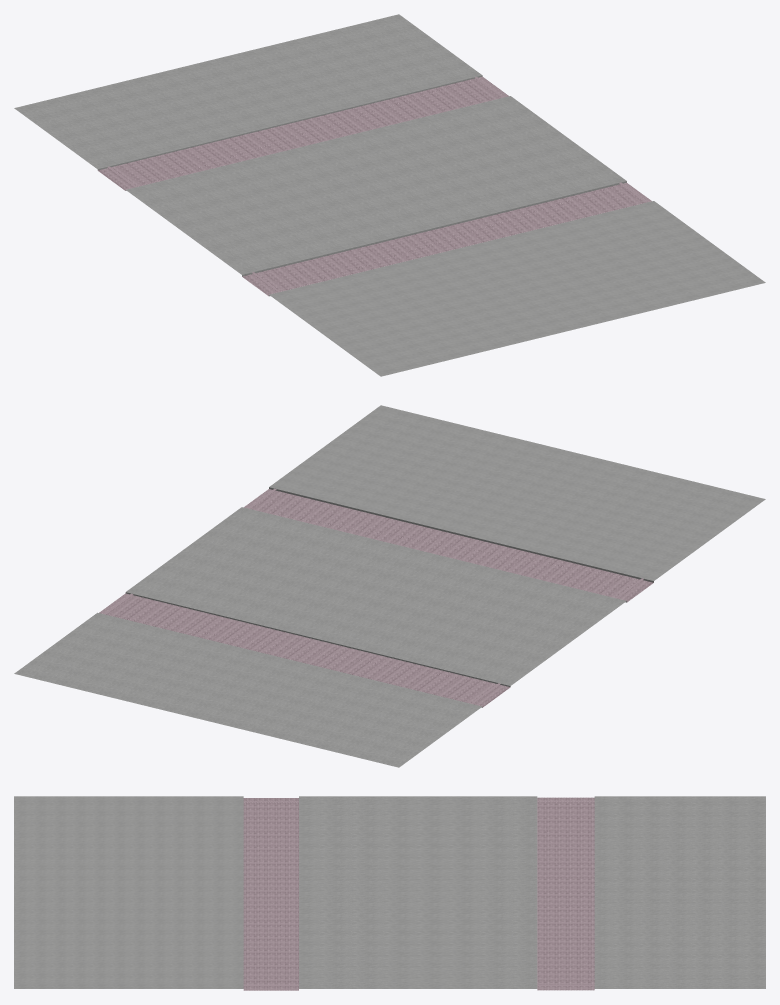
File: cenario.fbx
The picture shows the model from 3 angles, top to bottom: view 1: azimuth 30°, elevation 25°; view 2: azimuth 150°, elevation 25°; view 3: azimuth 270°, elevation 25°; orthographic projection. The views are drawn at different scales.
Visible parts, largest first — view 1: cenario; view 2: cenario; view 3: cenario.
Boxes of the visible parts, bbox=[...] form: cenario: bbox=[14, 14, 765, 376]; cenario: bbox=[14, 405, 765, 767]; cenario: bbox=[14, 796, 765, 990].
Size of the model in its own units: 51.61 by 0.2171 by 85.17.
